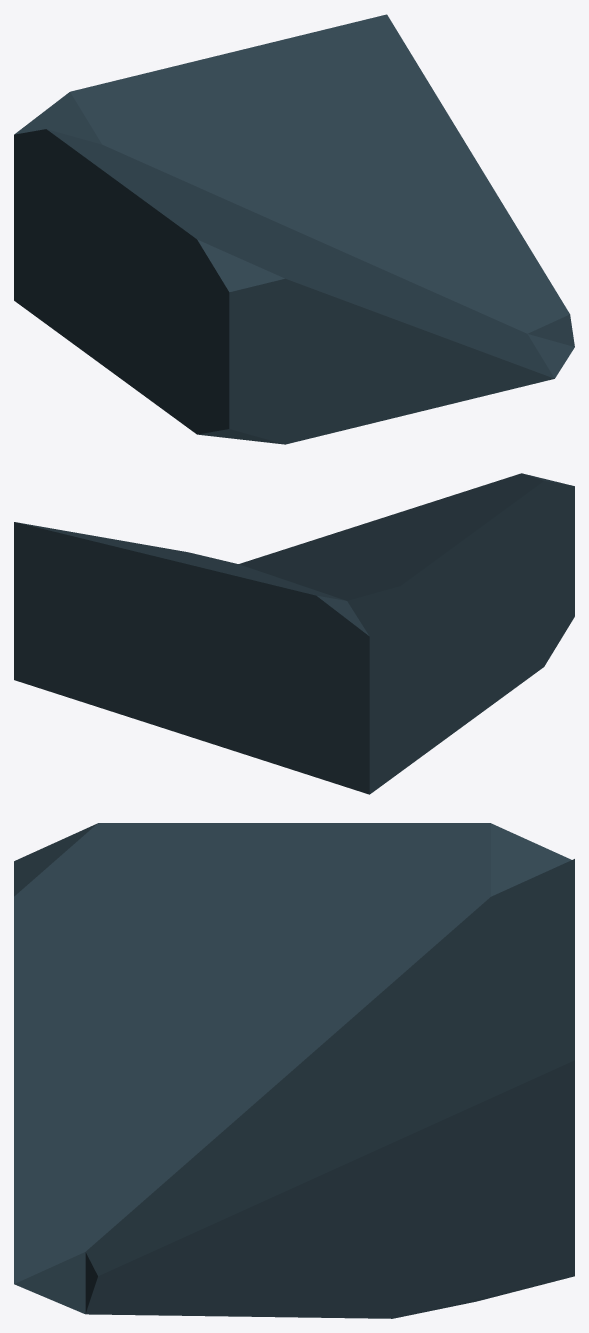
Rendered from ramp_long_straight_narrow_half_corner_conc.fbx.
3 views of the same model, one above another, from view 1: azimuth 30°, elevation 25°; view 2: azimuth 150°, elevation 25°; view 3: azimuth 270°, elevation 25° (orthographic). The views are drawn at different scales.
Visible parts, largest first — view 1: ramp_long_straight_narrow_half_corner_conc; view 2: ramp_long_straight_narrow_half_corner_conc; view 3: ramp_long_straight_narrow_half_corner_conc.
Boxes of the visible parts, <box> form: ramp_long_straight_narrow_half_corner_conc: <box>14,14,574,444</box>; ramp_long_straight_narrow_half_corner_conc: <box>14,473,574,794</box>; ramp_long_straight_narrow_half_corner_conc: <box>14,823,574,1318</box>.
Bounding box in the file's own units: 102 × 53.6 × 100.
